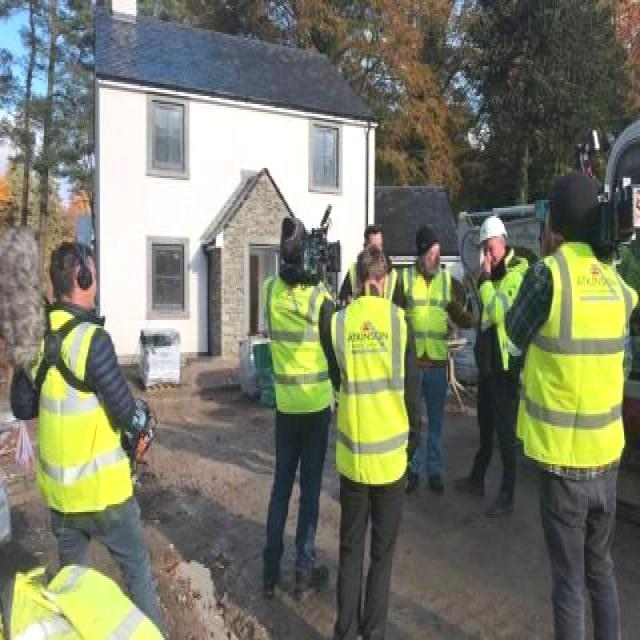face_nomask: (72, 264, 107, 316), (419, 244, 445, 274), (479, 236, 505, 264)
head_helmet: (476, 216, 504, 246)
head_nohelmet: (558, 166, 606, 212), (52, 226, 101, 270), (275, 206, 305, 258), (408, 214, 445, 250), (356, 238, 388, 274), (360, 220, 387, 250)
person: (21, 236, 156, 620), (530, 170, 634, 640), (333, 246, 415, 640), (261, 220, 332, 604), (471, 218, 528, 516), (404, 226, 464, 494)
vest: (525, 248, 631, 468), (35, 310, 132, 512), (335, 292, 408, 482), (13, 566, 159, 640), (265, 274, 335, 412), (476, 262, 525, 360), (405, 262, 451, 360)
